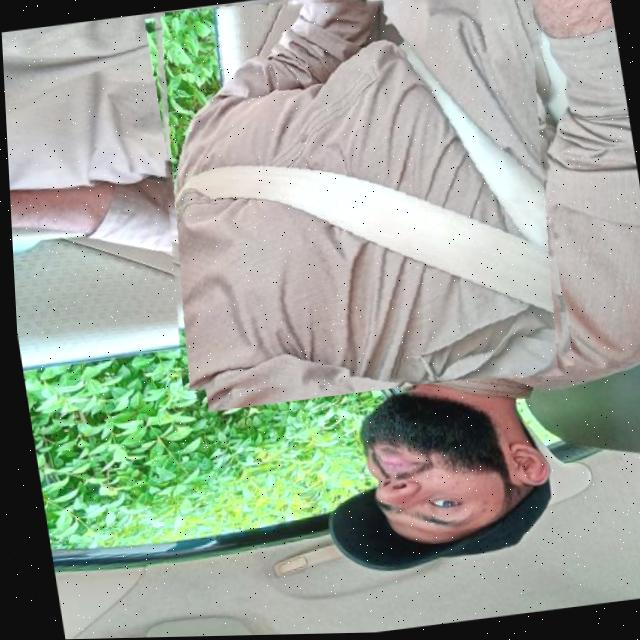seatbelt: (131, 0, 586, 416)
